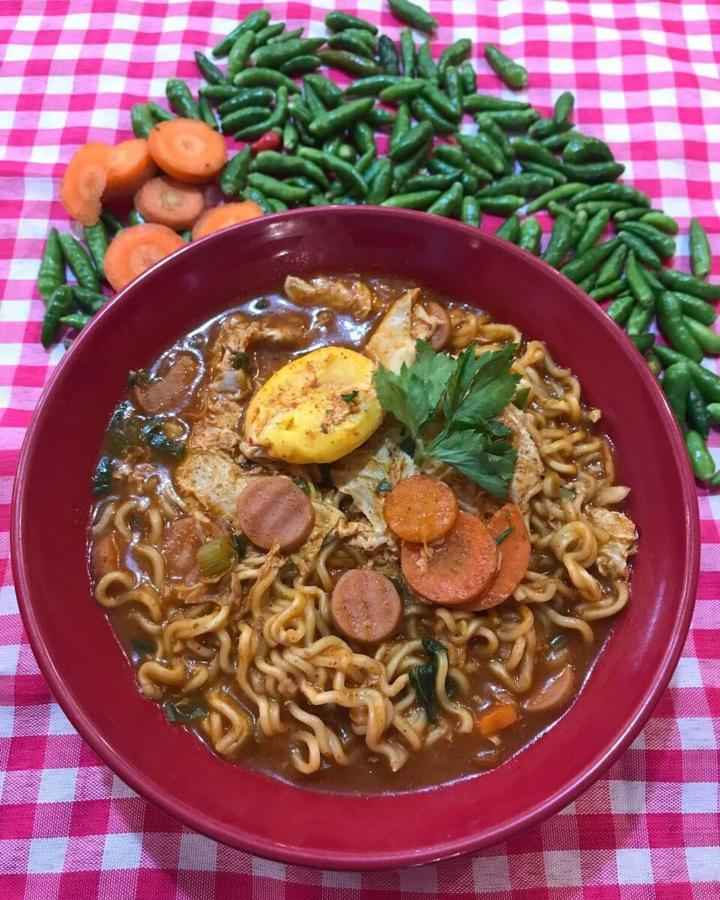Mie: (90, 313, 628, 752)
